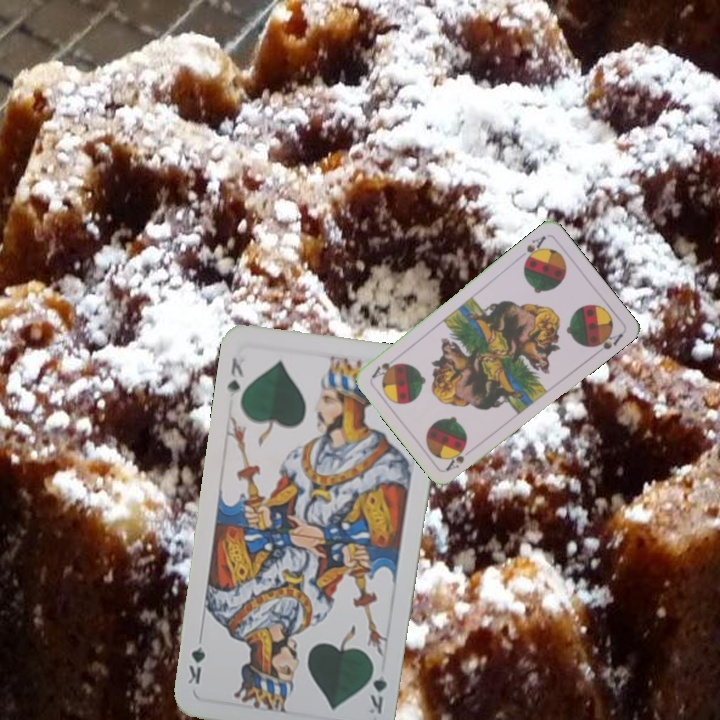GK: (364, 659, 390, 717), (223, 353, 246, 401)
SA: (520, 232, 549, 266), (441, 443, 469, 474)
